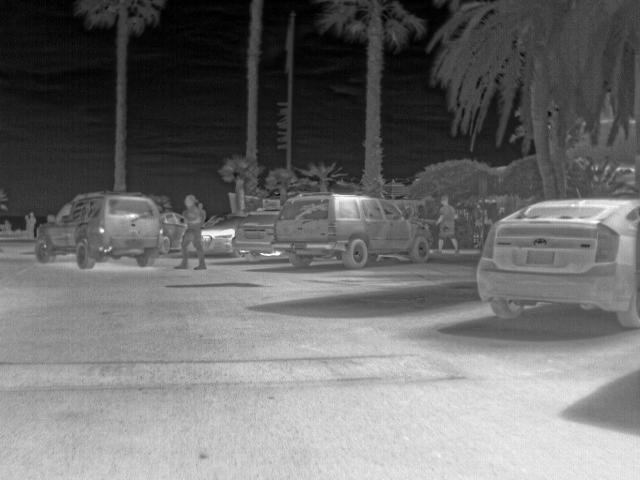car: (475, 197, 639, 330), (273, 192, 435, 272), (36, 193, 162, 267), (235, 204, 275, 262), (206, 214, 235, 258), (161, 210, 182, 255)
person: (178, 192, 207, 270), (433, 193, 460, 257), (24, 208, 37, 234)
